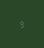nine: (19, 20, 23, 27)
